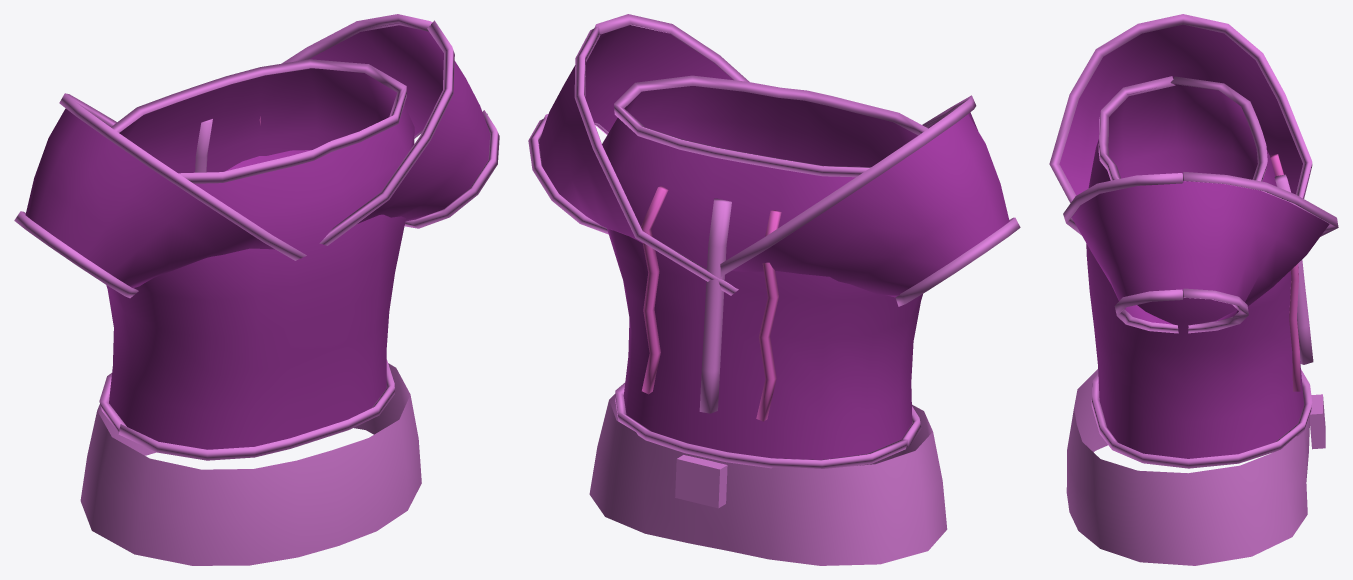
Rendered from nebula_breastplate.glb.
The picture shows the model from 3 angles, left to right: view 1: azimuth 30°, elevation 25°; view 2: azimuth 150°, elevation 25°; view 3: azimuth 270°, elevation 25°; orthographic projection. The views are drawn at different scales.
Visible parts, largest first — view 1: nebula_breastplate_chest; view 2: nebula_breastplate_chest; view 3: nebula_breastplate_chest.
Part boxes in pixels (x1=…): nebula_breastplate_chest: x1=14, y1=14, x2=499, y2=565; nebula_breastplate_chest: x1=528, y1=14, x2=1020, y2=565; nebula_breastplate_chest: x1=1049, y1=14, x2=1338, y2=565.
Bounding box in the file's own units: 0.6477 × 0.592 × 0.3782.
